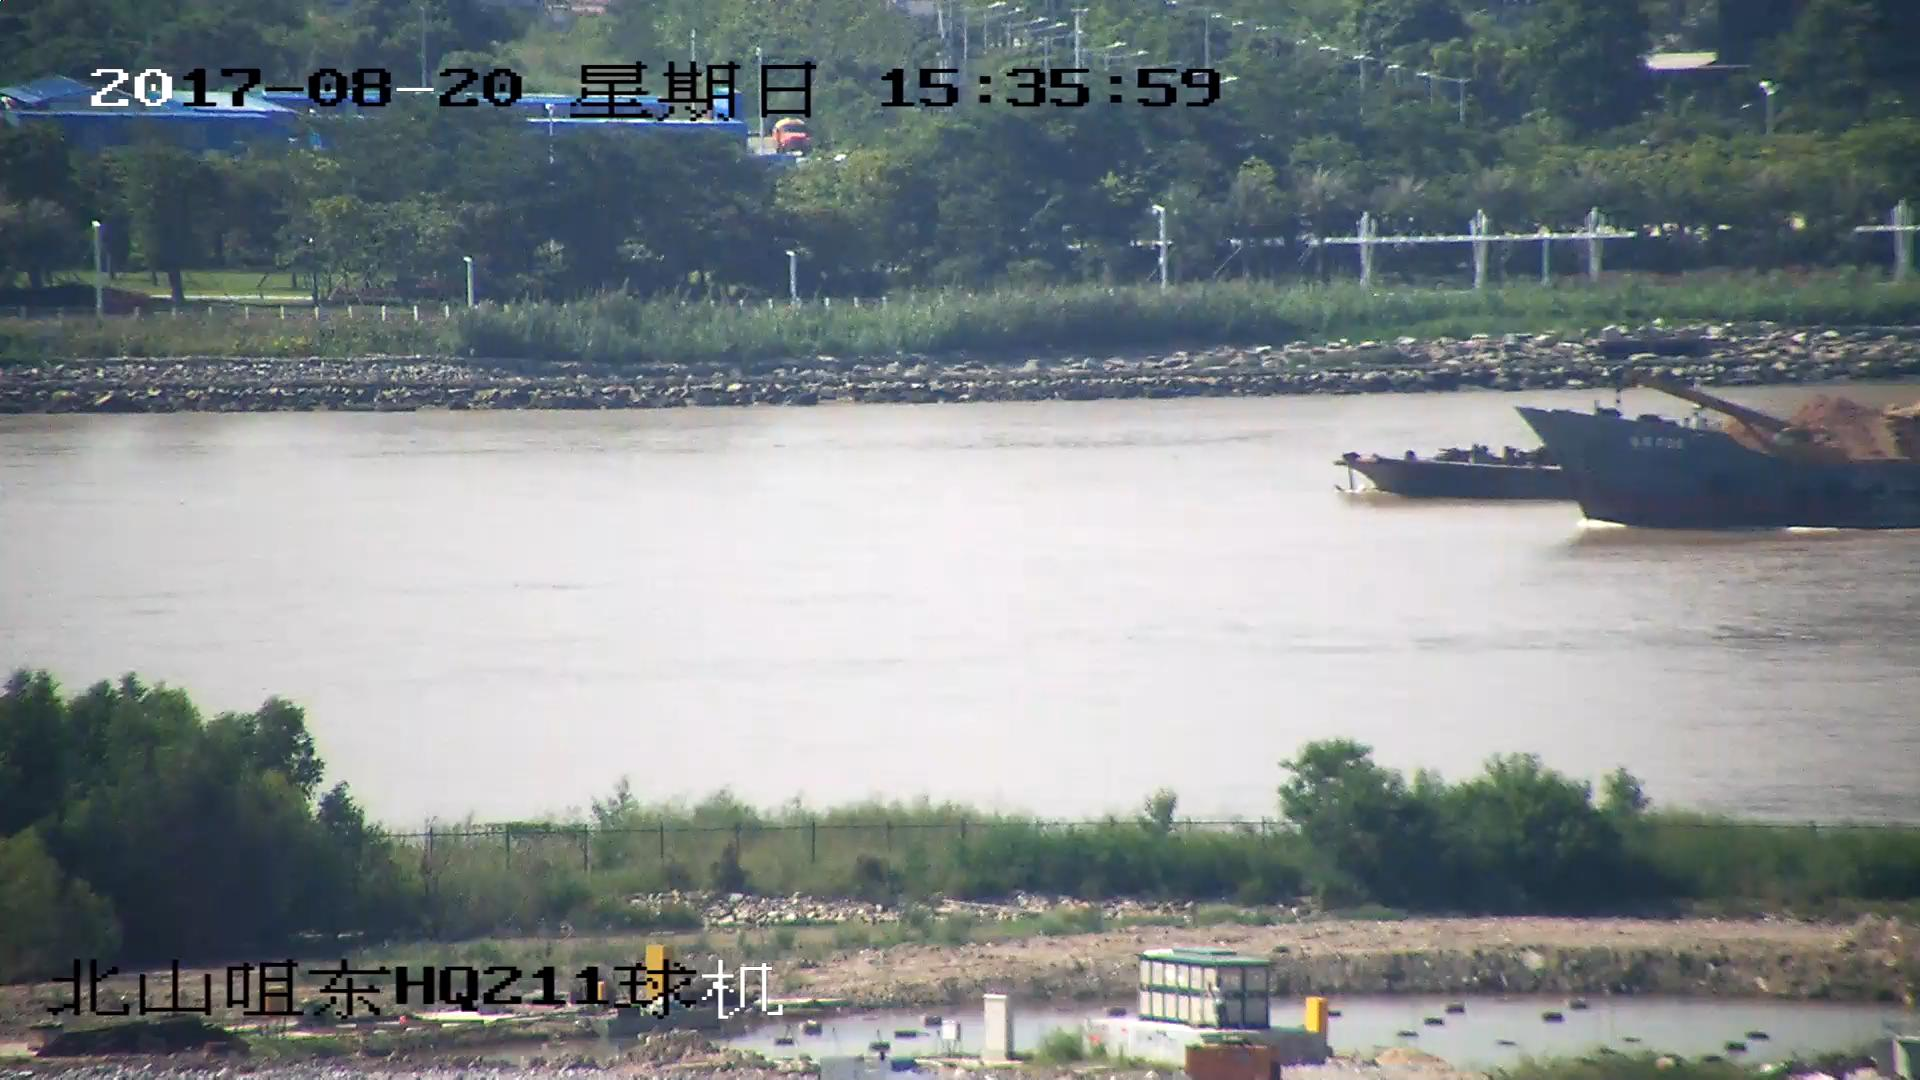general cargo ship: (1516, 401, 1920, 531)
ore carrier: (1344, 407, 1920, 501)
